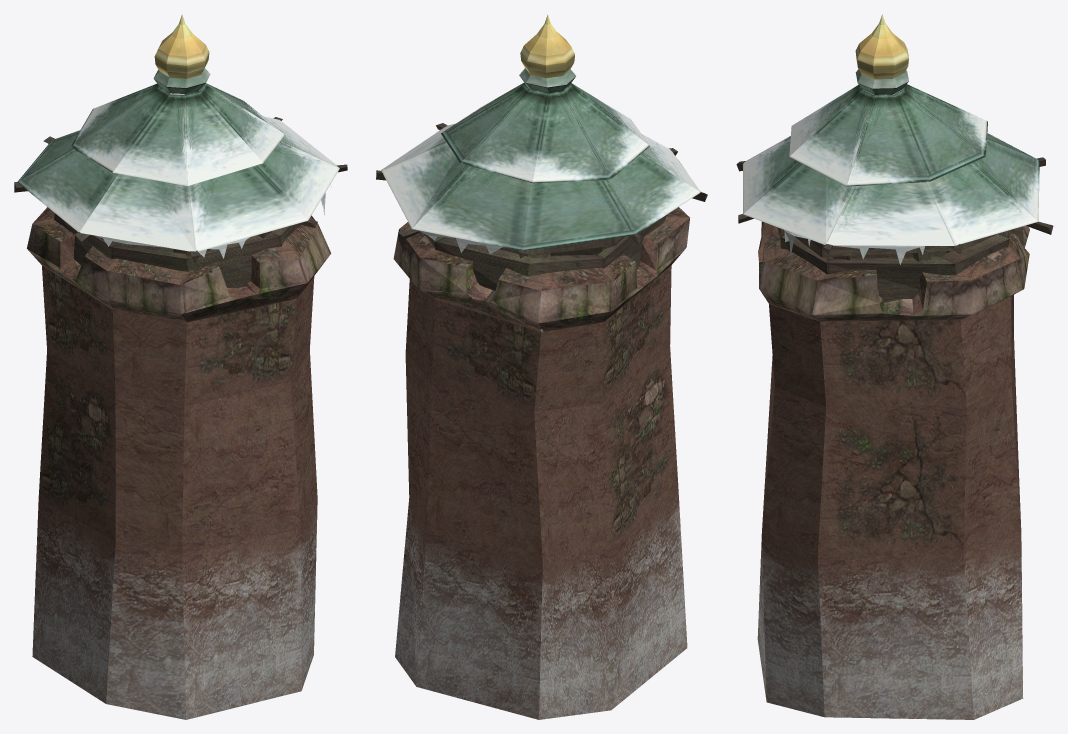
File: C1SMTHSNH.bgf.obj
The picture shows the model from 3 angles, left to right: view 1: azimuth 30°, elevation 25°; view 2: azimuth 150°, elevation 25°; view 3: azimuth 270°, elevation 25°; orthographic projection. The views are drawn at different scales.
Visible parts, largest first — view 1: SMTHH; view 2: SMTHH; view 3: SMTHH.
Part boxes in pixels (<box>): SMTHH: <box>14,14,347,719</box>; SMTHH: <box>376,14,707,719</box>; SMTHH: <box>736,14,1053,719</box>.
Bounding box in the file's own units: 10.37 × 23.62 × 10.3.
5 materials, 5 textured.
